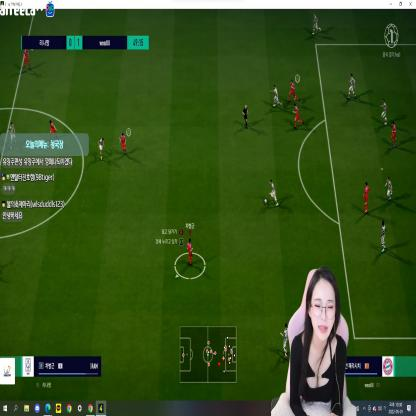streamer: (290, 266, 347, 416)
